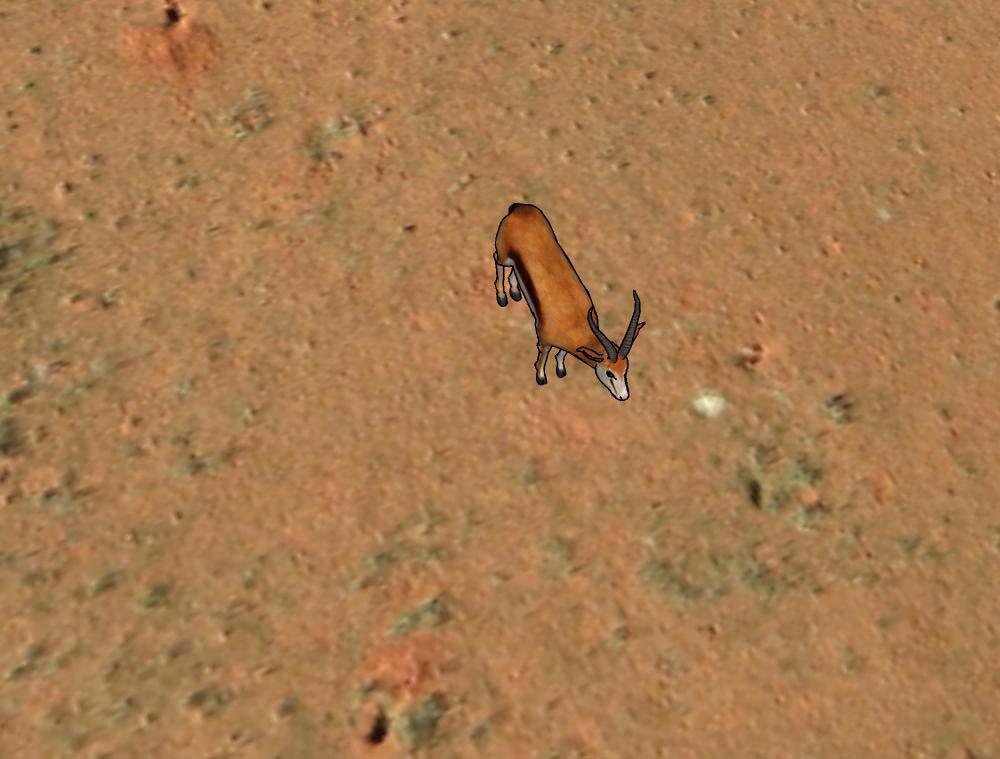springbok: (492, 197, 650, 414)
